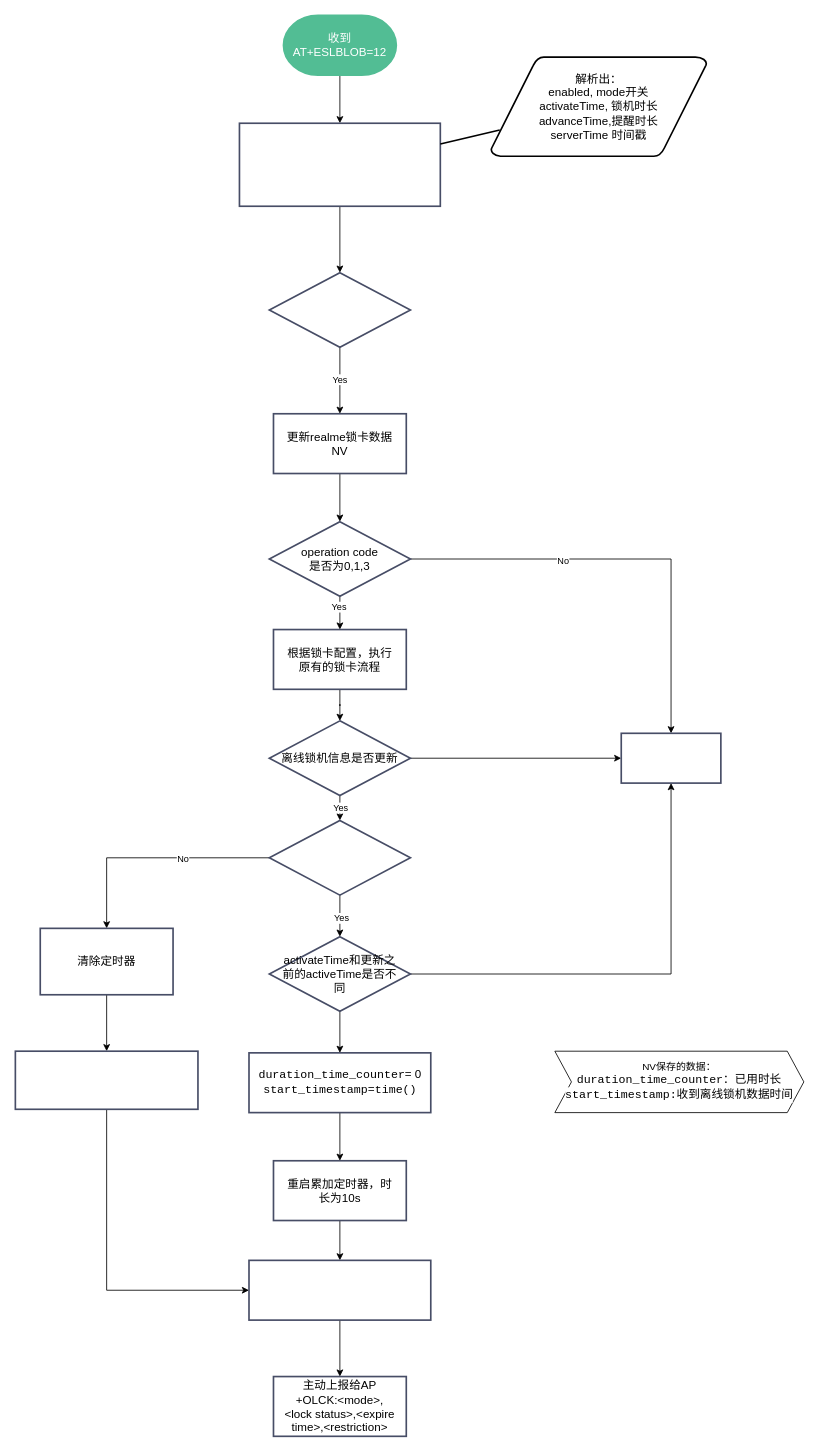
The diagram is 818 pixels wide and 1451 high, and some of its shapes have lost their labels. The box of each missing label's shape, as (x1, y1, x2, y2) in pixels:
duration_time_counter = 0 start_timestamp=0 保存NV: (14, 1050, 198, 1110)
mode是否为1: (268, 819, 411, 896)
回复failed结果给AP: (620, 732, 721, 784)
回复更新结果给AP AT< +OLCK: 1,0,180,12: (248, 1259, 431, 1321)
是否成功解析: (268, 271, 411, 348)
验签，解密 Decode (需要比较收到ServerTime比保存的时间大，才认为是有效的更新): (238, 122, 441, 207)
